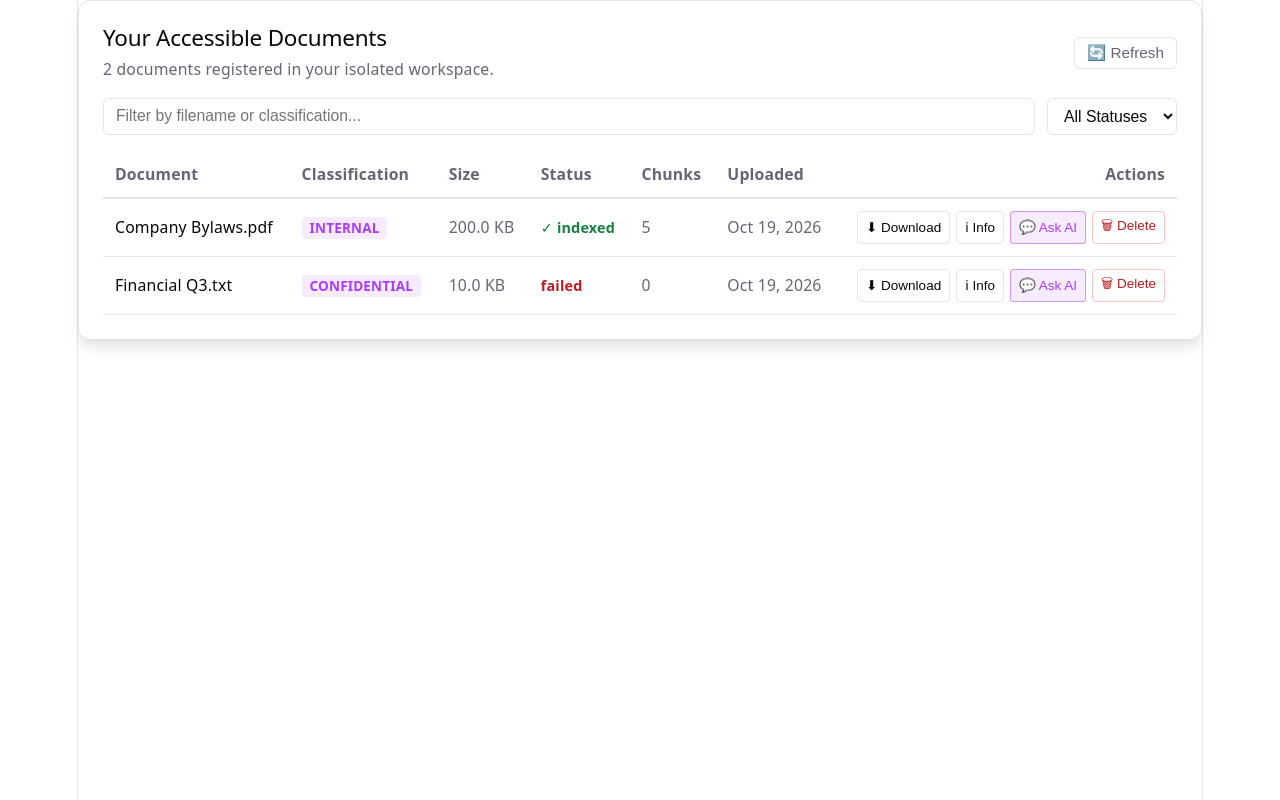
Test: DocumentList Component › filters documents by status using status selector
Select "Failed" in the dropdown with test id "document-status-filter" at (1112,116), box [1047,98,1177,135]
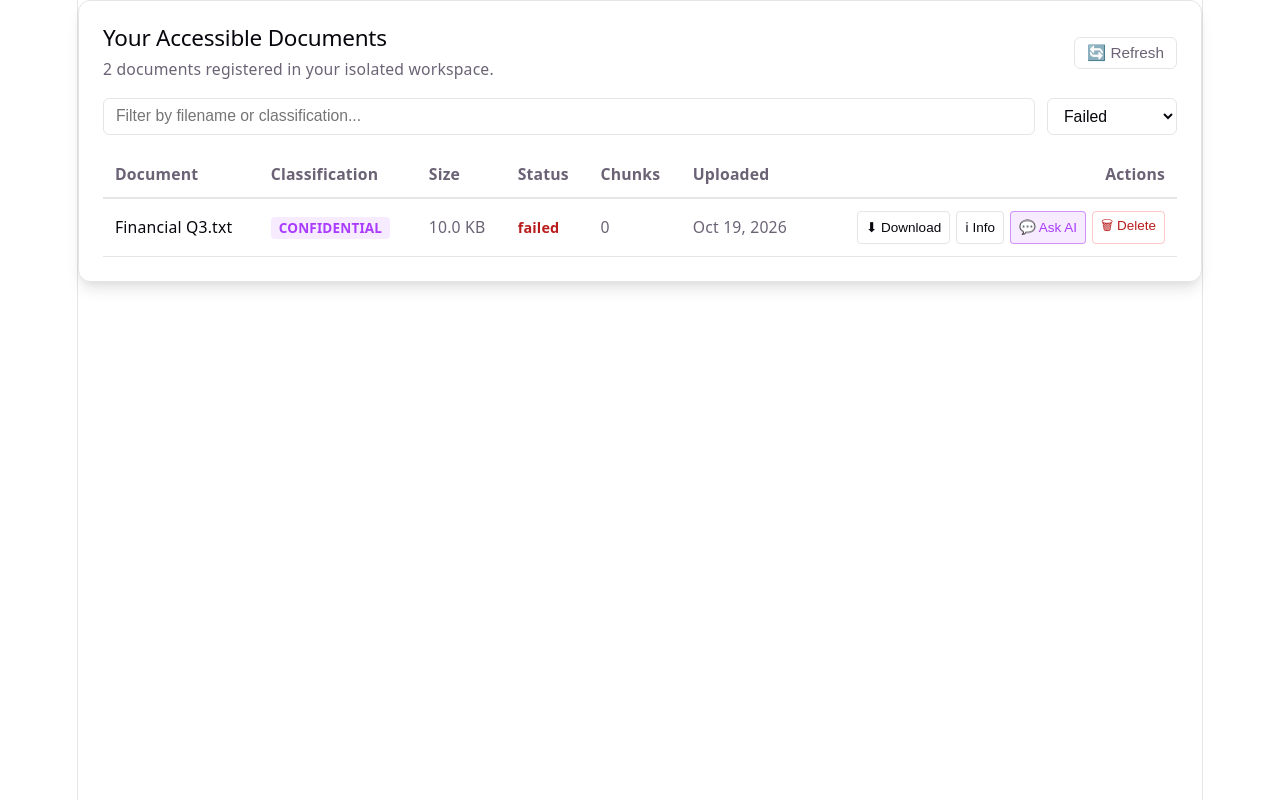
Expected: the text "Financial Q3.txt" is shown, [103,198,259,256]
Now the text "Company Bylaws.pdf" is gone
